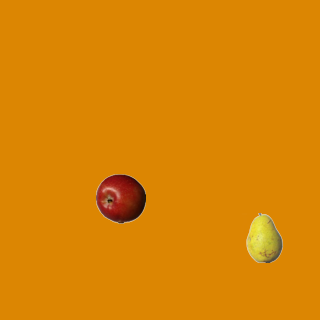Apple Braeburn: (95, 173, 145, 223)
Pear Monster: (239, 212, 289, 262)
